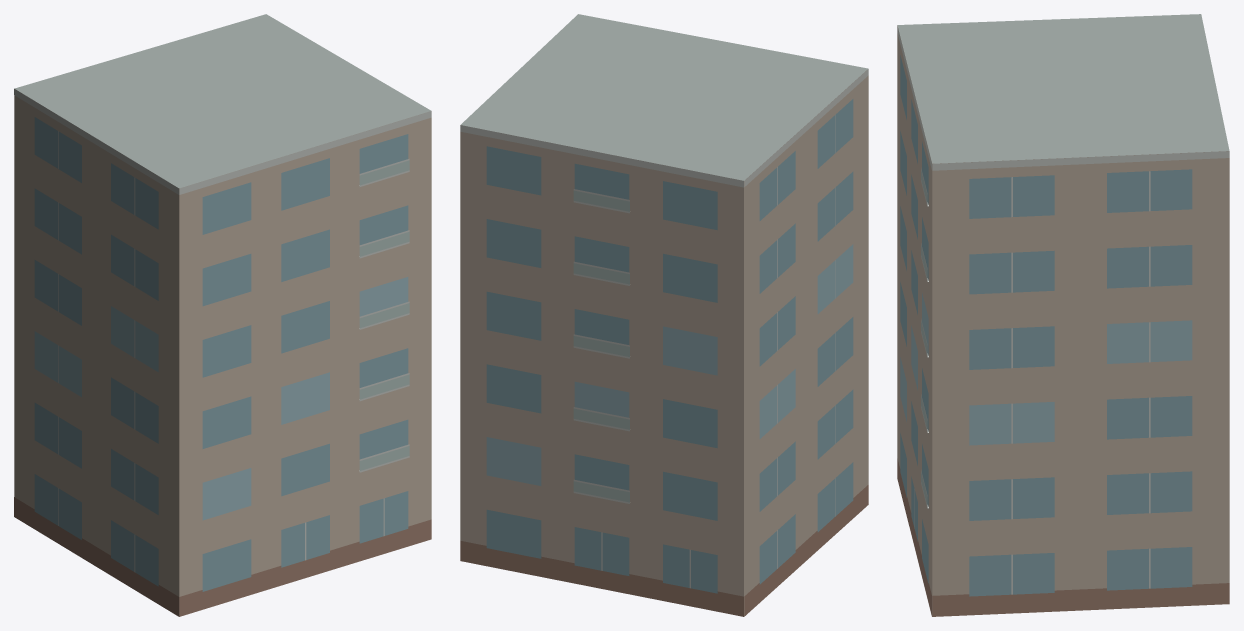
The model's file is survey-upis-32653070.glb.
The picture shows the model from 3 angles, left to right: view 1: azimuth 30°, elevation 25°; view 2: azimuth 150°, elevation 25°; view 3: azimuth 270°, elevation 25°; orthographic projection. The views are drawn at different scales.
Parts seen in each view (by area): view 1: survey-upis-32653070.tmp; view 2: survey-upis-32653070.tmp; view 3: survey-upis-32653070.tmp.
Part boxes in pixels (x1=…): survey-upis-32653070.tmp: x1=14, y1=14, x2=431, y2=616; survey-upis-32653070.tmp: x1=460, y1=14, x2=868, y2=616; survey-upis-32653070.tmp: x1=897, y1=14, x2=1229, y2=616.
Bounding box in the file's own units: 11.21 × 15.8 × 10.51.
